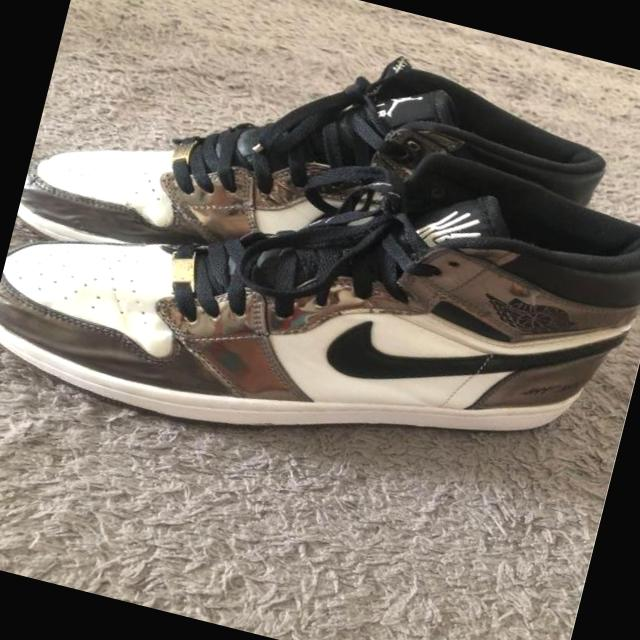nike_fake_jordan: (0, 58, 640, 530), (13, 0, 628, 365)
